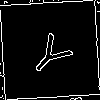Y: (25, 25, 81, 81)
